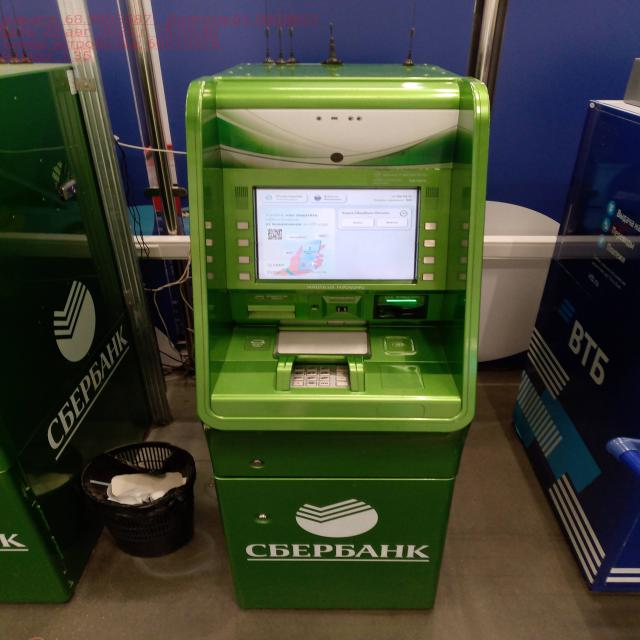bank: (183, 58, 486, 615), (0, 61, 165, 609)
